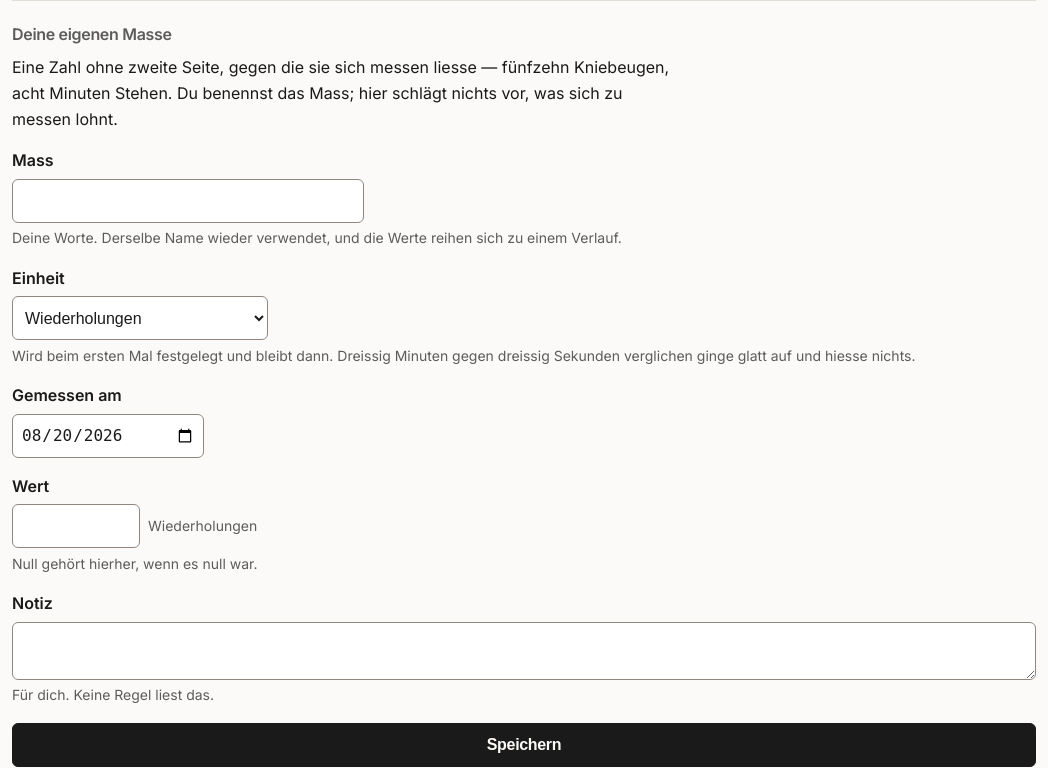
was schon dasteht, steht im Formular › lädt den gespeicherten Wert, sobald Name und Tag darauf zeigen
Type "Kniebeugen" into the field labelled "Mass" at (188,201), box [12,179,364,223]
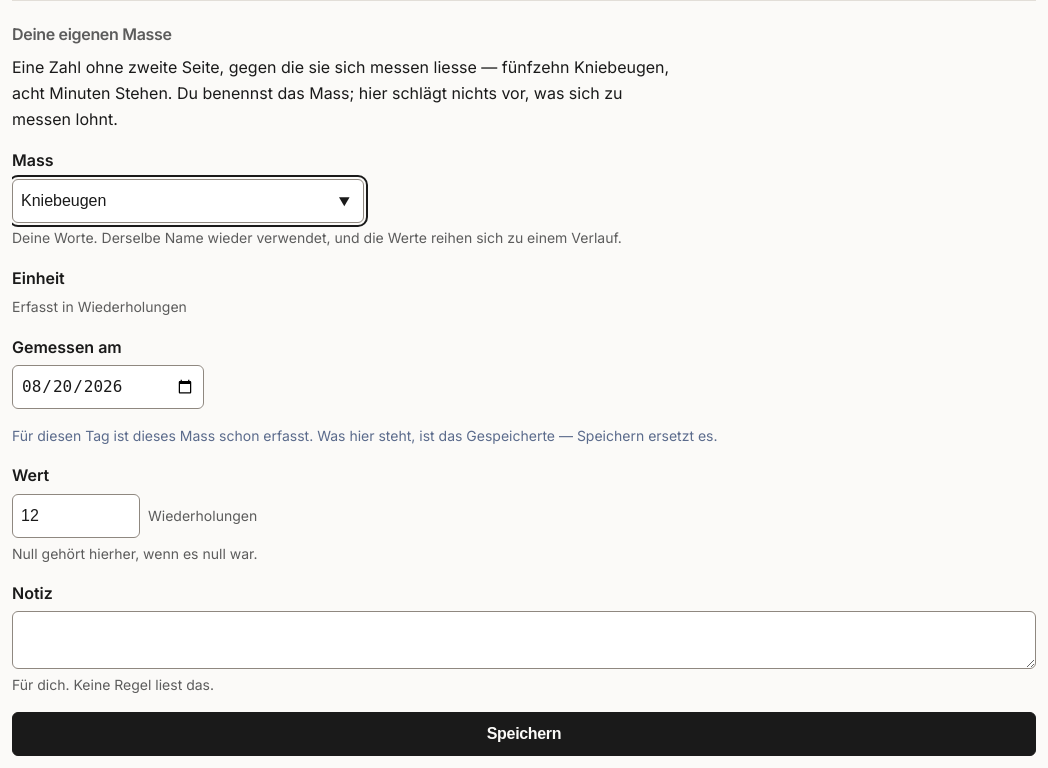
Expected: the field labelled "Wert" holds "12", [12,494,140,538]
